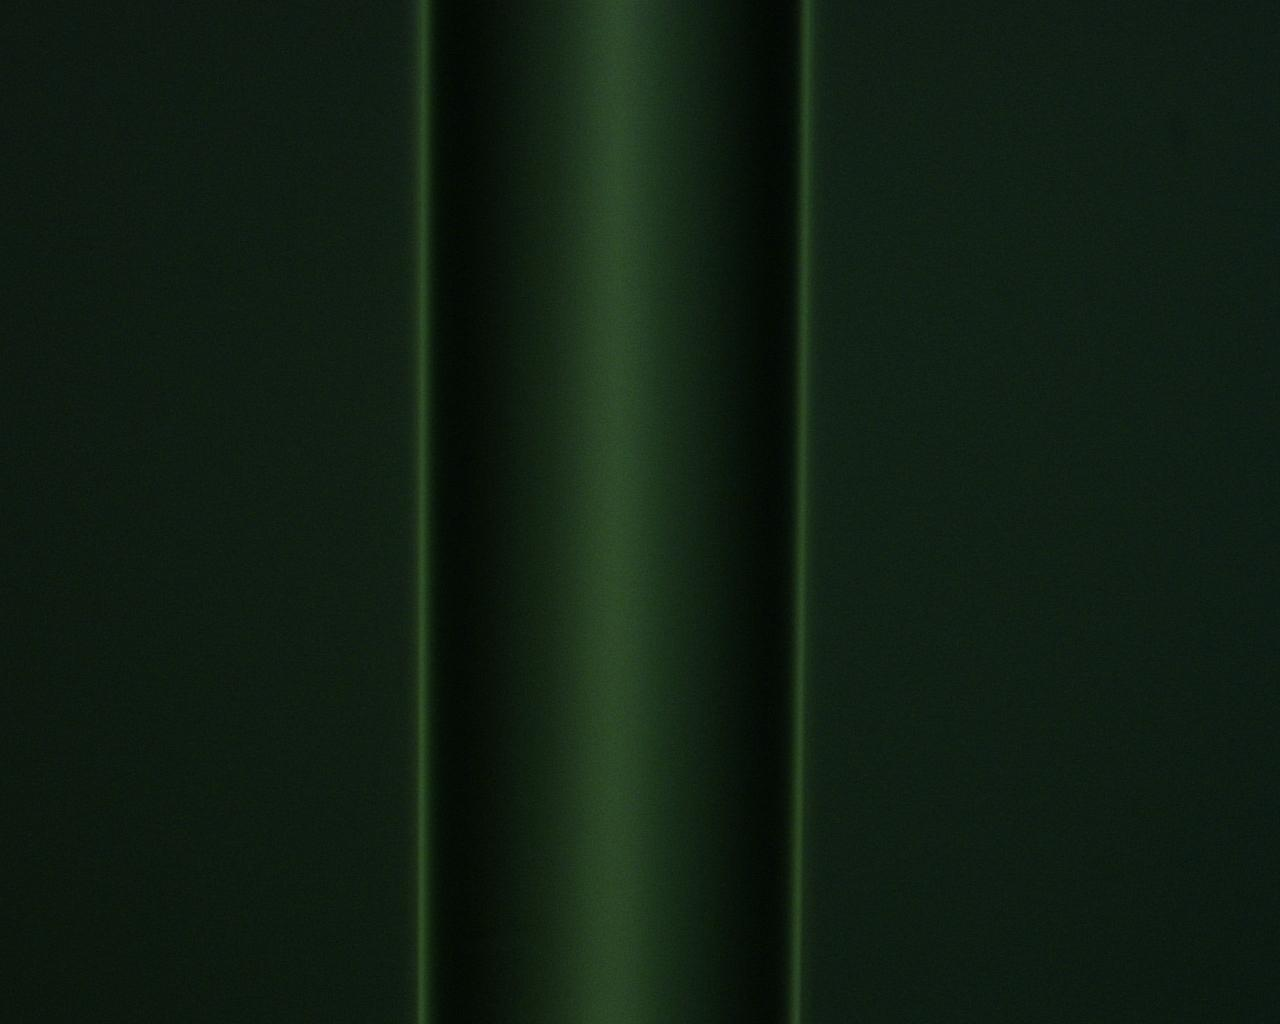fiber: (420, 0, 811, 1024)
